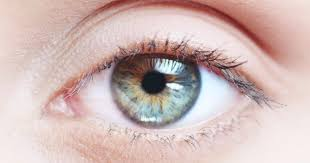pupil: (112, 54, 199, 125)
